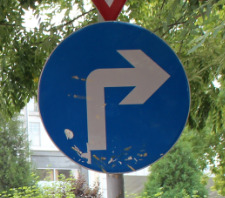right_turn: (37, 21, 190, 174)
